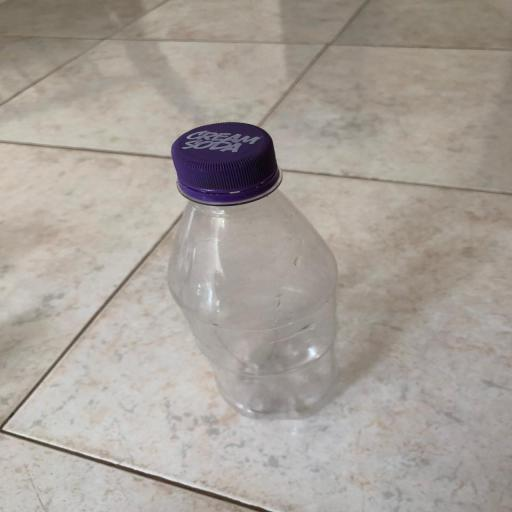waste: (138, 112, 384, 429)
